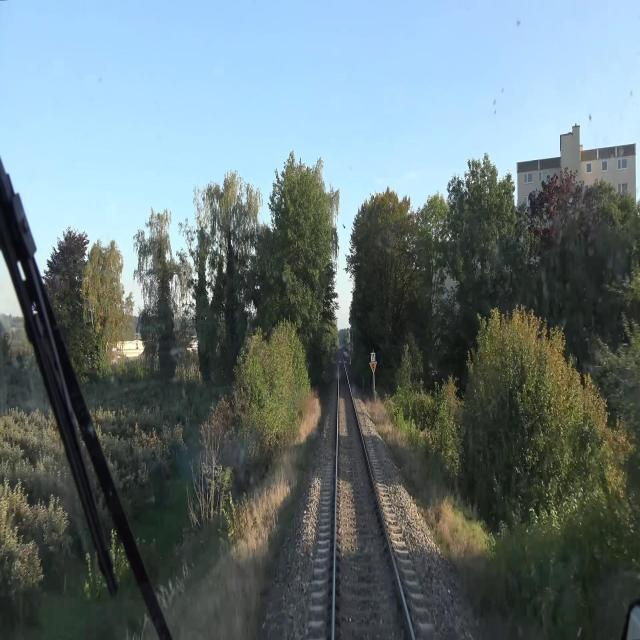rail-track: (336, 358, 411, 639)
